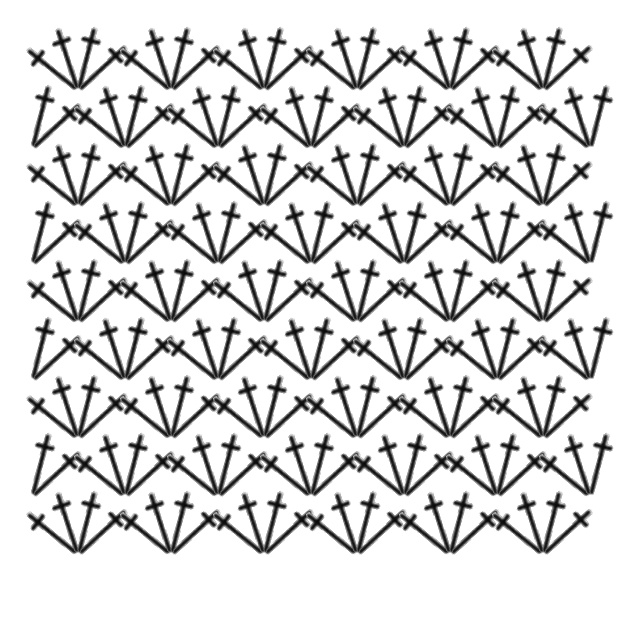enseble_chain: (16, 33, 90, 104), (66, 33, 140, 104), (109, 33, 183, 104), (159, 33, 233, 104), (202, 33, 276, 104), (252, 33, 326, 104), (295, 33, 369, 104), (345, 33, 419, 104), (388, 33, 462, 104), (438, 33, 512, 104), (481, 33, 555, 104), (531, 33, 605, 104), (20, 91, 94, 162), (63, 91, 137, 162), (113, 91, 187, 162), (156, 91, 230, 162), (206, 91, 280, 162), (249, 91, 323, 162), (299, 91, 373, 162), (342, 91, 416, 162), (392, 91, 466, 162), (435, 91, 509, 162), (485, 91, 559, 162), (528, 91, 602, 162), (16, 149, 90, 220), (66, 149, 140, 220), (109, 149, 183, 220), (159, 149, 233, 220), (202, 149, 276, 220), (252, 149, 326, 220), (295, 149, 369, 220), (345, 149, 419, 220), (388, 149, 462, 220), (438, 149, 512, 220), (481, 149, 555, 220), (531, 149, 605, 220), (20, 207, 94, 278), (63, 207, 137, 278), (113, 207, 187, 278), (156, 207, 230, 278), (206, 207, 280, 278), (249, 207, 323, 278), (299, 207, 373, 278), (342, 207, 416, 278), (392, 207, 466, 278), (435, 207, 509, 278), (485, 207, 559, 278), (528, 207, 602, 278), (16, 265, 90, 336), (66, 265, 140, 336), (109, 265, 183, 336), (159, 265, 233, 336), (202, 265, 276, 336), (252, 265, 326, 336), (295, 265, 369, 336), (345, 265, 419, 336), (388, 265, 462, 336), (438, 265, 512, 336), (481, 265, 555, 336), (531, 265, 605, 336), (20, 323, 94, 394), (63, 323, 137, 394), (113, 323, 187, 394), (156, 323, 230, 394), (206, 323, 280, 394), (249, 323, 323, 394), (299, 323, 373, 394), (342, 323, 416, 394), (392, 323, 466, 394), (435, 323, 509, 394), (485, 323, 559, 394), (528, 323, 602, 394), (16, 381, 90, 452), (66, 381, 140, 452), (109, 381, 183, 452), (159, 381, 233, 452), (202, 381, 276, 452), (252, 381, 326, 452), (295, 381, 369, 452), (345, 381, 419, 452), (388, 381, 462, 452), (438, 381, 512, 452), (481, 381, 555, 452), (531, 381, 605, 452), (20, 439, 94, 510), (63, 439, 137, 510), (113, 439, 187, 510), (156, 439, 230, 510), (206, 439, 280, 510), (249, 439, 323, 510), (299, 439, 373, 510), (342, 439, 416, 510), (392, 439, 466, 510), (435, 439, 509, 510), (485, 439, 559, 510), (528, 439, 602, 510), (16, 497, 90, 568), (66, 497, 140, 568), (109, 497, 183, 568), (159, 497, 233, 568), (202, 497, 276, 568), (252, 497, 326, 568), (295, 497, 369, 568), (345, 497, 419, 568), (388, 497, 462, 568), (438, 497, 512, 568), (481, 497, 555, 568), (531, 497, 605, 568), (41, 22, 96, 95), (60, 22, 115, 95), (134, 22, 189, 95), (153, 22, 208, 95), (227, 22, 282, 95), (246, 22, 301, 95), (320, 22, 375, 95), (339, 22, 394, 95), (413, 22, 468, 95), (432, 22, 487, 95), (506, 22, 561, 95), (525, 22, 580, 95), (14, 80, 69, 153), (88, 80, 143, 153), (107, 80, 162, 153), (181, 80, 236, 153), (200, 80, 255, 153), (274, 80, 329, 153), (293, 80, 348, 153), (367, 80, 422, 153), (386, 80, 441, 153), (460, 80, 515, 153), (479, 80, 534, 153), (553, 80, 608, 153), (572, 80, 627, 153), (41, 138, 96, 211), (60, 138, 115, 211), (134, 138, 189, 211), (153, 138, 208, 211), (227, 138, 282, 211), (246, 138, 301, 211), (320, 138, 375, 211), (339, 138, 394, 211), (413, 138, 468, 211), (432, 138, 487, 211), (506, 138, 561, 211), (525, 138, 580, 211), (14, 196, 69, 269), (88, 196, 143, 269), (107, 196, 162, 269), (181, 196, 236, 269), (200, 196, 255, 269), (274, 196, 329, 269), (293, 196, 348, 269), (367, 196, 422, 269), (386, 196, 441, 269), (460, 196, 515, 269), (479, 196, 534, 269), (553, 196, 608, 269), (572, 196, 627, 269), (41, 254, 96, 327), (60, 254, 115, 327), (134, 254, 189, 327), (153, 254, 208, 327), (227, 254, 282, 327), (246, 254, 301, 327), (320, 254, 375, 327), (339, 254, 394, 327), (413, 254, 468, 327), (432, 254, 487, 327), (506, 254, 561, 327), (525, 254, 580, 327), (14, 312, 69, 385), (88, 312, 143, 385), (107, 312, 162, 385), (181, 312, 236, 385), (200, 312, 255, 385), (274, 312, 329, 385), (293, 312, 348, 385), (367, 312, 422, 385), (386, 312, 441, 385), (460, 312, 515, 385), (479, 312, 534, 385), (553, 312, 608, 385), (572, 312, 627, 385), (41, 370, 96, 443), (60, 370, 115, 443), (134, 370, 189, 443), (153, 370, 208, 443), (227, 370, 282, 443), (246, 370, 301, 443), (320, 370, 375, 443), (339, 370, 394, 443), (413, 370, 468, 443), (432, 370, 487, 443), (506, 370, 561, 443), (525, 370, 580, 443), (14, 428, 69, 501), (88, 428, 143, 501), (107, 428, 162, 501), (181, 428, 236, 501), (200, 428, 255, 501), (274, 428, 329, 501), (293, 428, 348, 501), (367, 428, 422, 501), (386, 428, 441, 501), (460, 428, 515, 501), (479, 428, 534, 501), (553, 428, 608, 501), (572, 428, 627, 501), (41, 486, 96, 559), (60, 486, 115, 559), (134, 486, 189, 559), (153, 486, 208, 559), (227, 486, 282, 559), (246, 486, 301, 559), (320, 486, 375, 559), (339, 486, 394, 559), (413, 486, 468, 559), (432, 486, 487, 559), (506, 486, 561, 559), (525, 486, 580, 559)
